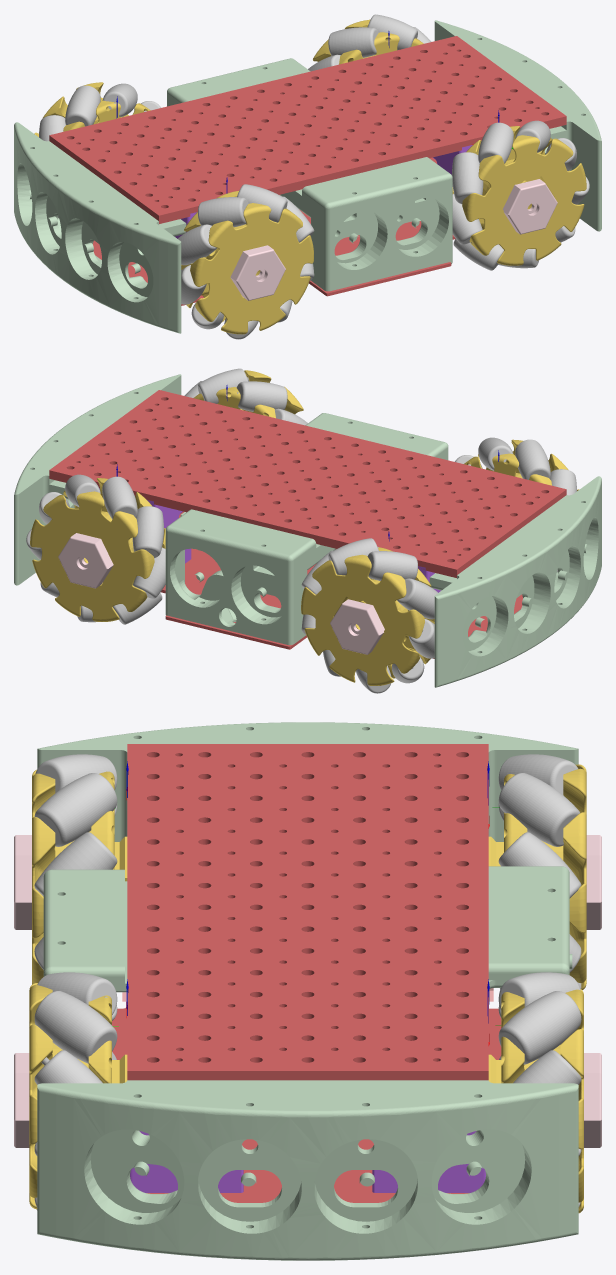
File: mobilerobot.glb
The picture shows the model from 3 angles, top to bottom: view 1: azimuth 30°, elevation 25°; view 2: azimuth 150°, elevation 25°; view 3: azimuth 270°, elevation 25°; orthographic projection. The views are drawn at different scales.
Visible parts, largest first — view 1: CenterPlate Alu, sbFront (×2), rimm-outerr (×3), sbCenter, Wheel-Hub-Cup (×2), Roller_copy6 (×4), Roller_copy5 (×4), sb_center_cont, rimm-inner (×4), Roller_copy7 (×2), Basplate Pexi, Roller_copy8 (×2) (+2 smaller); view 2: CenterPlate Alu, sbFront (×2), rimm-outerr (×3), sb_center_cont, Wheel-Hub-Cup (×2), Roller_copy5 (×4), Roller_copy6 (×4), rimm-inner (×4), sbCenter, Roller_copy4 (×2), Basplate Pexi, Roller_copy3 (×2) (+2 smaller); view 3: CenterPlate Alu, sbFront (×2), rimm-outerr (×4), Roller_copy5 (×4), Roller_copy6 (×4), sbCenter, sb_center_cont, Wheel-Hub-Cup (×4), Basplate Pexi, rimm-inner (×3), Roller_copy4 (×2), Roller_copy7 (×2) (+1 smaller).
Part boxes in pixels (x1=…): CenterPlate Alu: x1=49, y1=36, x2=566, y2=223; sbFront (×2): x1=14, y1=20, x2=601, y2=333; rimm-outerr (×3): x1=34, y1=82, x2=586, y2=334; sbCenter: x1=280, y1=157, x2=452, y2=291; Wheel-Hub-Cup (×2): x1=230, y1=179, x2=557, y2=300; Roller_copy6 (×4): x1=102, y1=14, x2=513, y2=227; Roller_copy5 (×4): x1=65, y1=27, x2=550, y2=222; sb_center_cont: x1=167, y1=58, x2=310, y2=106; rimm-inner (×4): x1=63, y1=32, x2=569, y2=321; Roller_copy7 (×2): x1=178, y1=152, x2=483, y2=265; Basplate Pexi: x1=93, y1=157, x2=455, y2=305; Roller_copy8 (×2): x1=181, y1=194, x2=482, y2=304; CenterPlate Alu: x1=49, y1=390, x2=566, y2=577; sbFront (×2): x1=14, y1=374, x2=601, y2=687; rimm-outerr (×3): x1=30, y1=370, x2=424, y2=685; sb_center_cont: x1=165, y1=509, x2=335, y2=645; Wheel-Hub-Cup (×2): x1=58, y1=533, x2=384, y2=654; Roller_copy5 (×4): x1=102, y1=368, x2=512, y2=580; Roller_copy6 (×4): x1=65, y1=381, x2=550, y2=575; rimm-inner (×4): x1=63, y1=387, x2=551, y2=678; sbCenter: x1=305, y1=413, x2=448, y2=460; Roller_copy4 (×2): x1=132, y1=506, x2=437, y2=619; Basplate Pexi: x1=161, y1=511, x2=522, y2=658; Roller_copy3 (×2): x1=133, y1=547, x2=434, y2=658; CenterPlate Alu: x1=127, y1=744, x2=488, y2=1080; sbFront (×2): x1=37, y1=722, x2=578, y2=1260; rimm-outerr (×4): x1=29, y1=764, x2=586, y2=1213; Roller_copy5 (×4): x1=34, y1=754, x2=580, y2=1063; Roller_copy6 (×4): x1=35, y1=754, x2=581, y2=1064; sbCenter: x1=43, y1=869, x2=127, y2=992; sb_center_cont: x1=488, y1=866, x2=569, y2=988; Wheel-Hub-Cup (×4): x1=14, y1=835, x2=601, y2=1147; Basplate Pexi: x1=112, y1=1001, x2=501, y2=1202; rimm-inner (×3): x1=66, y1=771, x2=537, y2=1083; Roller_copy4 (×2): x1=34, y1=832, x2=117, y2=1084; Roller_copy7 (×2): x1=498, y1=832, x2=581, y2=1084.
Bounding box in the file's own units: 360 × 102 × 228.
